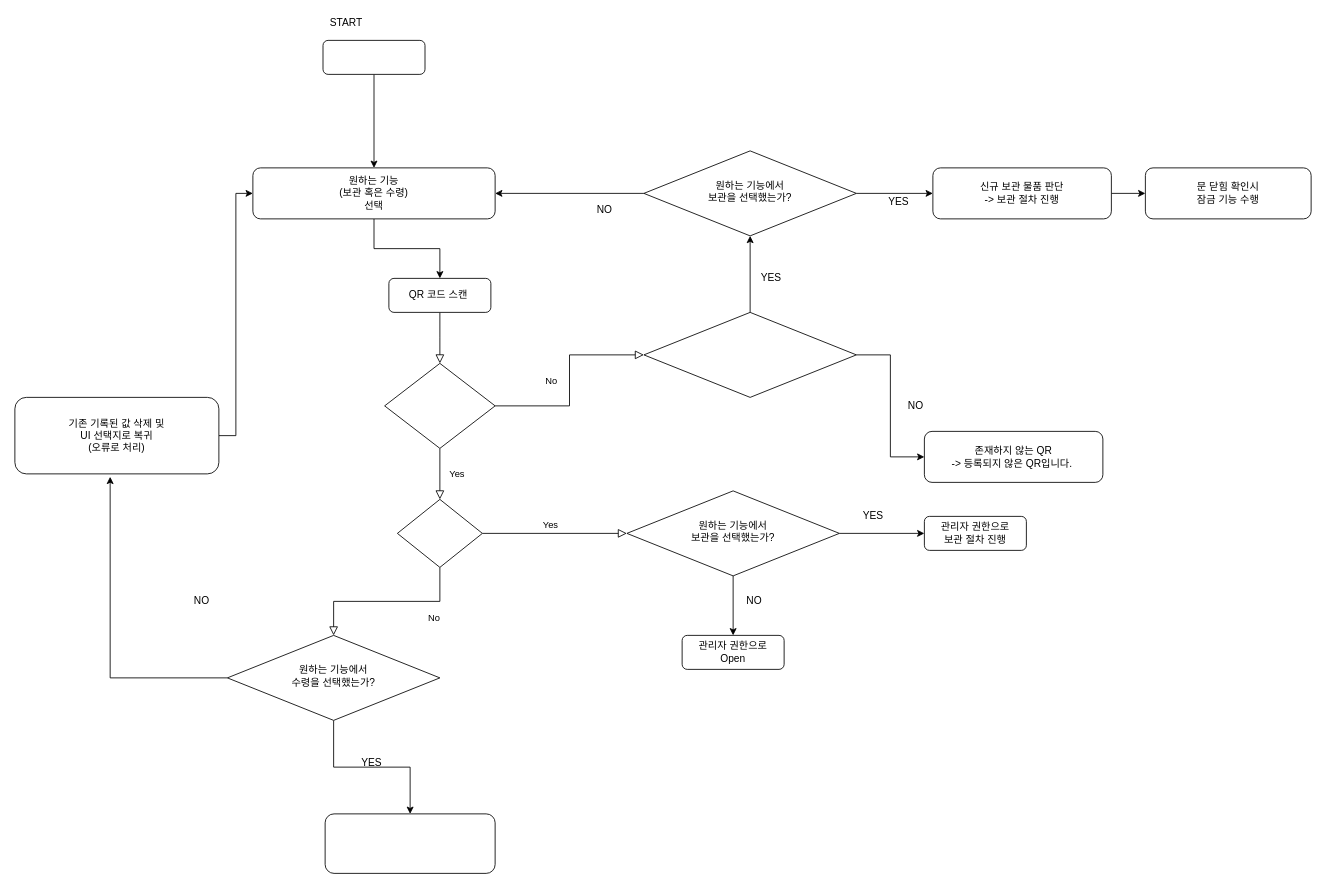
The diagram is 1326 pixels wide and 888 high, and some of its shapes have lost their labels. Each missing label, with the centre of its shape:
"관리자 QR 값인가?" belongs at [439,533].
"기존에 보관시에 사용된 QR 값 판단 해당 보관함 Open" belongs at [409,843].
"동작 시작" belongs at [373,57].
"통신을 통해, 서버 내 QR 값 존재 여부를 확인했는가?" belongs at [749,354].
"해당 값이 기존에 기록된 값인가?" belongs at [439,405].
